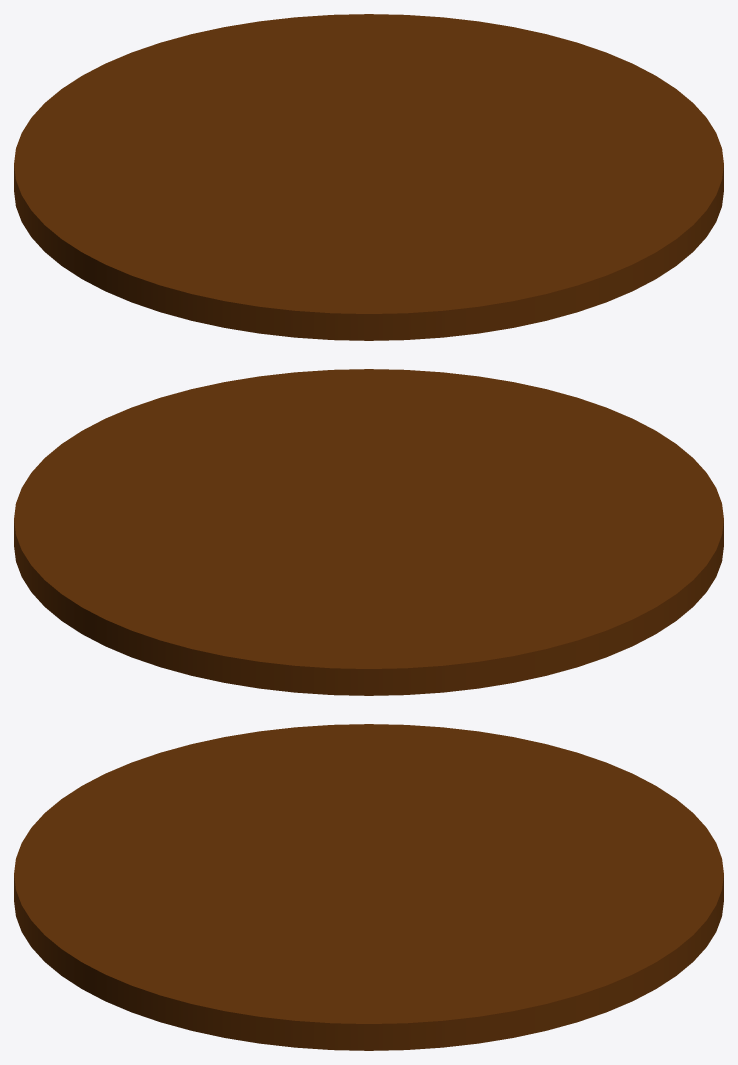
File: HoyoTopo_obj.obj
The picture shows the model from 3 angles, top to bottom: view 1: azimuth 30°, elevation 25°; view 2: azimuth 150°, elevation 25°; view 3: azimuth 270°, elevation 25°; orthographic projection.
Visible parts, largest first — view 1: Hoyo; view 2: Hoyo; view 3: Hoyo.
Boxes of the visible parts, box(x1,y1,x2,y2) form: Hoyo: box(14, 14, 723, 340); Hoyo: box(14, 369, 723, 695); Hoyo: box(14, 724, 723, 1050).
Size of the model in its own units: 2.4 by 0.1 by 2.4.
